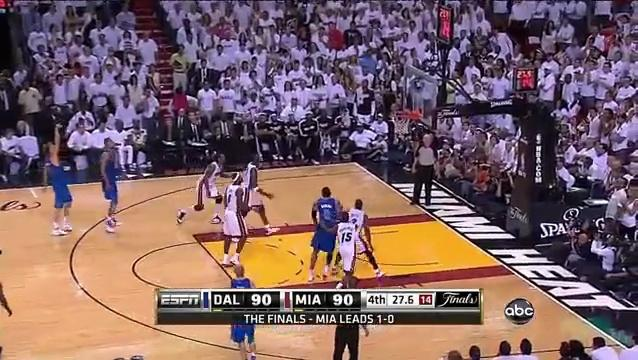Backboard: (399, 61, 439, 131)
Basket: (388, 108, 417, 136)
Person: (39, 127, 78, 238), (177, 153, 226, 226), (305, 186, 342, 277), (215, 172, 248, 271), (349, 194, 387, 277), (95, 136, 125, 235), (236, 156, 267, 230), (333, 212, 359, 279), (228, 262, 256, 290)
Referee: (411, 133, 442, 207), (333, 315, 367, 358)
Shot Clock: (436, 8, 452, 42), (515, 69, 537, 90)
